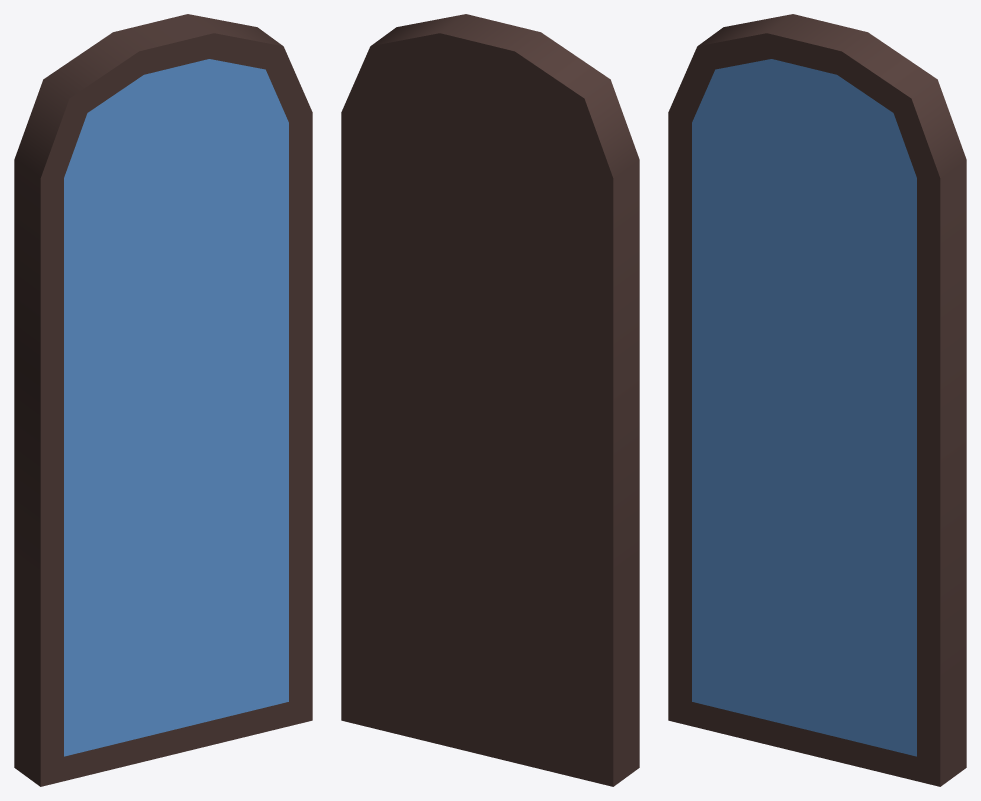
The model's file is mirror.fbx.
The picture shows the model from 3 angles, left to right: view 1: azimuth 30°, elevation 25°; view 2: azimuth 150°, elevation 25°; view 3: azimuth 330°, elevation 25°; orthographic projection.
Visible parts, largest first — view 1: Mirror; view 2: Mirror; view 3: Mirror.
Part boxes in pixels (x1,y1,x2,y2): Mirror: (14,14,312,786); Mirror: (341,14,639,786); Mirror: (668,14,966,786).
Bounding box in the file's own units: 120 × 300 × 20.
